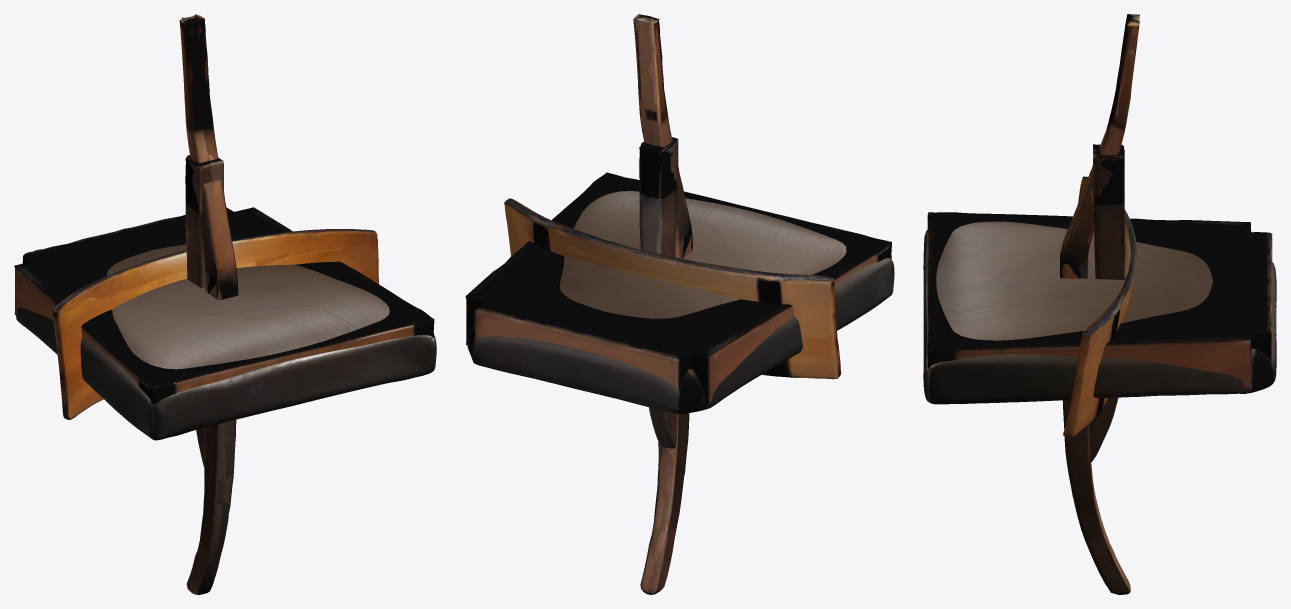
3 views of the same model, side by side, from view 1: azimuth 30°, elevation 25°; view 2: azimuth 150°, elevation 25°; view 3: azimuth 270°, elevation 25° (orthographic).
Visible parts, largest first — view 1: root.0, root.1, root.2, root.4, root.3, root.6, root.5; view 2: root.0, root.1, root.2, root.4, root.3, root.6, root.5; view 3: root.0, root.1, root.3, root.2, root.4, root.5, root.6.
Boxes of the visible parts, box(x1,y1,x2,y2) form: root.0: box(16, 244, 436, 440); root.1: box(14, 207, 434, 405); root.2: box(52, 229, 379, 419); root.4: box(181, 15, 238, 593); root.3: box(179, 14, 237, 594); root.6: box(185, 155, 223, 467); root.5: box(185, 155, 220, 287); root.0: box(467, 191, 894, 413); root.1: box(465, 172, 891, 404); root.2: box(504, 198, 841, 379); root.4: box(633, 14, 692, 594); root.3: box(635, 15, 692, 594); root.6: box(639, 139, 677, 448); root.5: box(639, 137, 678, 447); root.0: box(923, 221, 1276, 404); root.1: box(927, 212, 1272, 388); root.3: box(1060, 14, 1139, 588); root.2: box(1063, 176, 1136, 437); root.4: box(1060, 14, 1139, 594); root.5: box(1089, 144, 1125, 462); root.6: box(1093, 144, 1125, 279).
Bounding box in the file's own units: 23434 × 39592 × 22009.
Materials: 1 (1 with a texture image).
